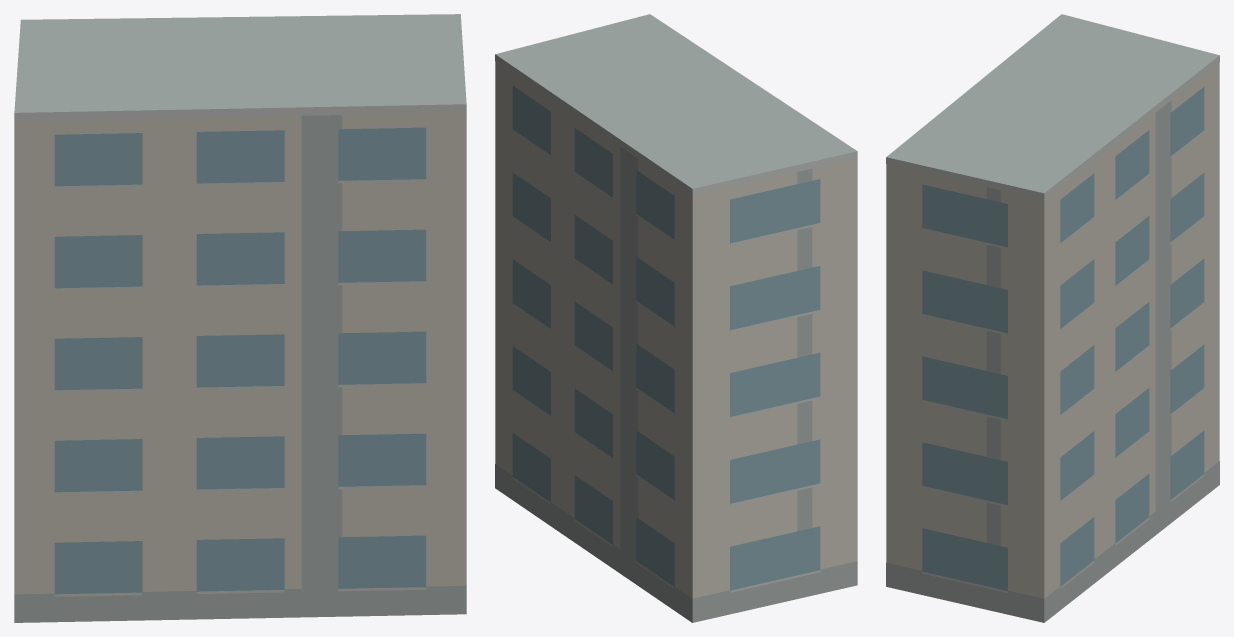
Rendered from survey-upis-32984168.glb.
3 renders of one model, left to right at view 1: azimuth 30°, elevation 25°; view 2: azimuth 150°, elevation 25°; view 3: azimuth 270°, elevation 25°, orthographic. The views are drawn at different scales.
Parts seen in each view (by area): view 1: survey-upis-32984168.tmp; view 2: survey-upis-32984168.tmp; view 3: survey-upis-32984168.tmp.
Part boxes in pixels (x1,y1,x2,y2): survey-upis-32984168.tmp: (14, 14, 466, 622); survey-upis-32984168.tmp: (495, 14, 857, 622); survey-upis-32984168.tmp: (886, 14, 1219, 622).
Size of the model in its own units: 13.34 by 14.9 by 10.5.
